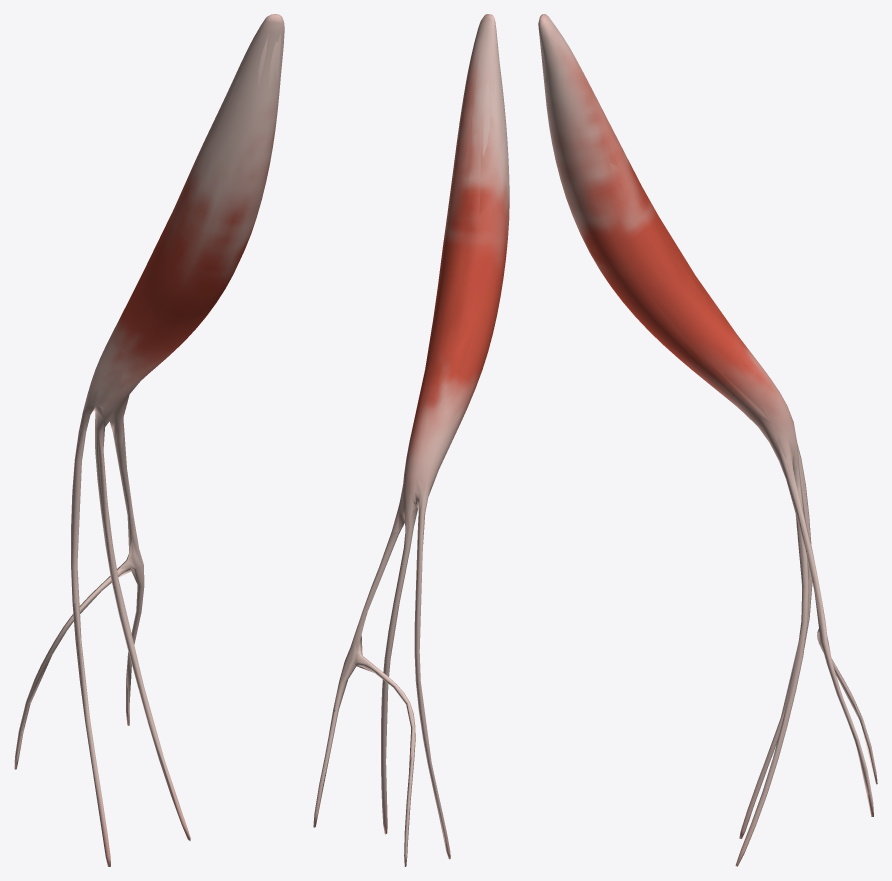
Rendered from L Long Digital Extensor.fbx.
3 views of the same model, side by side, from view 1: azimuth 30°, elevation 25°; view 2: azimuth 150°, elevation 25°; view 3: azimuth 270°, elevation 25° (orthographic). The views are drawn at different scales.
Visible parts, largest first — view 1: L Long Digital Extensor, L Long Digital Extensor low; view 2: L Long Digital Extensor, L Long Digital Extensor low; view 3: L Long Digital Extensor, L Long Digital Extensor low.
Boxes of the visible parts, x1,y1,x2,y2 form: L Long Digital Extensor: [14, 14, 284, 866]; L Long Digital Extensor low: [15, 18, 282, 820]; L Long Digital Extensor: [313, 14, 509, 866]; L Long Digital Extensor low: [316, 15, 503, 850]; L Long Digital Extensor: [538, 14, 877, 866]; L Long Digital Extensor low: [538, 14, 875, 839].
Bounding box in the file's own units: 3.01 × 23.36 × 8.44.
